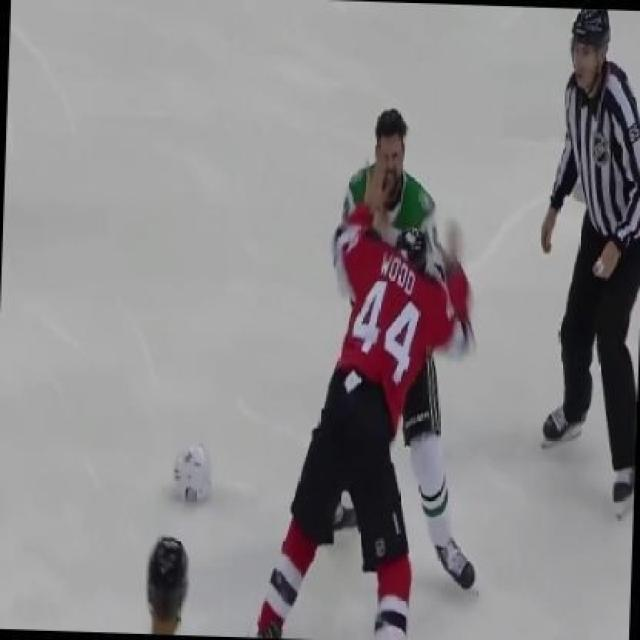fight: (235, 94, 500, 638)
non-fight: (517, 6, 638, 520)
